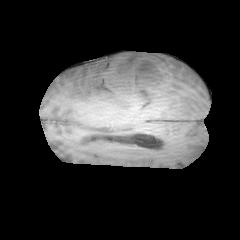glioma: (106, 58, 181, 109)
